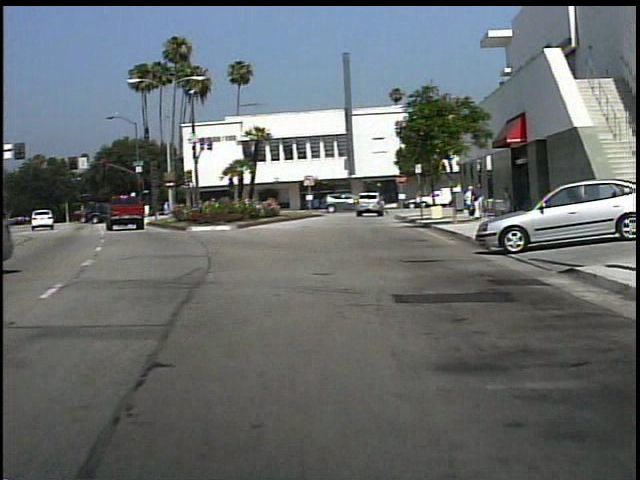person: (370, 192, 391, 220), (498, 184, 515, 218), (472, 182, 486, 223), (462, 184, 475, 217)
